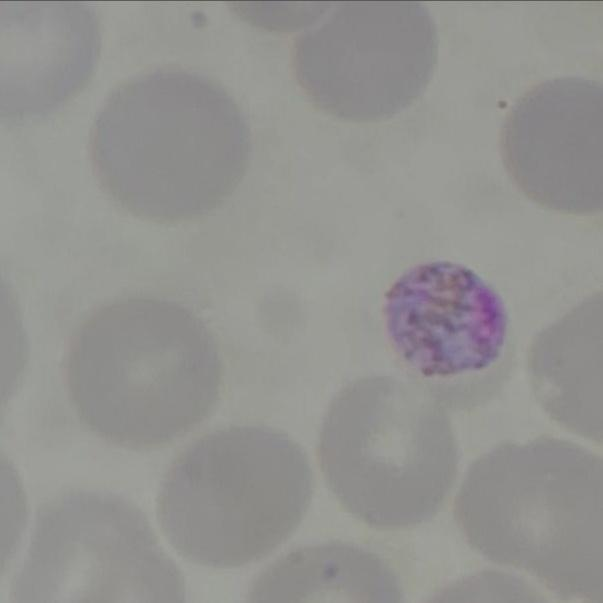Infected: (388, 266, 518, 406)
Uninfected: (93, 74, 253, 224), (457, 442, 603, 602), (70, 296, 221, 443), (158, 427, 309, 569), (320, 377, 453, 532), (8, 487, 185, 603), (297, 0, 432, 119), (505, 79, 603, 216), (0, 0, 100, 112)
